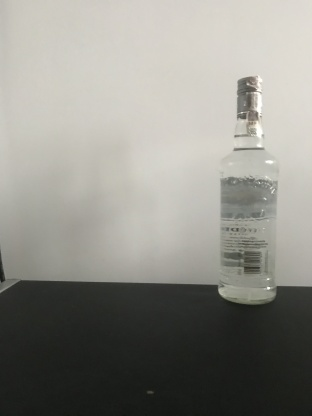nakretka: (235, 74, 264, 119)
